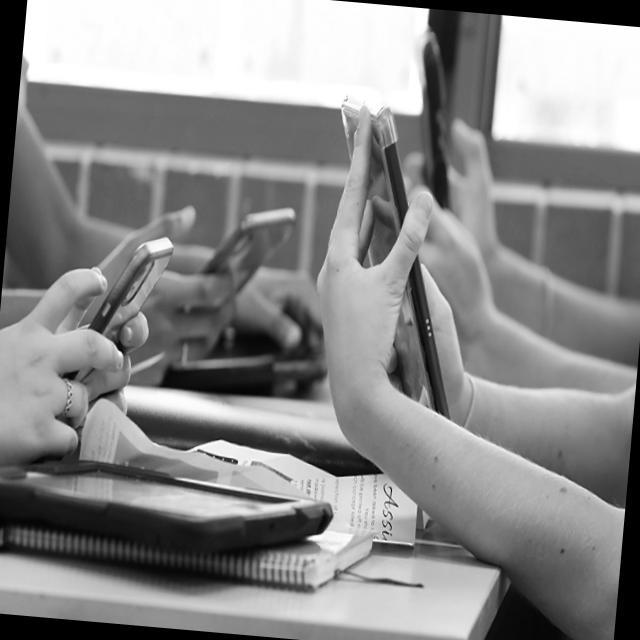phone: (314, 93, 478, 420), (0, 448, 335, 565), (72, 228, 175, 388), (182, 196, 296, 322), (406, 29, 468, 212)
